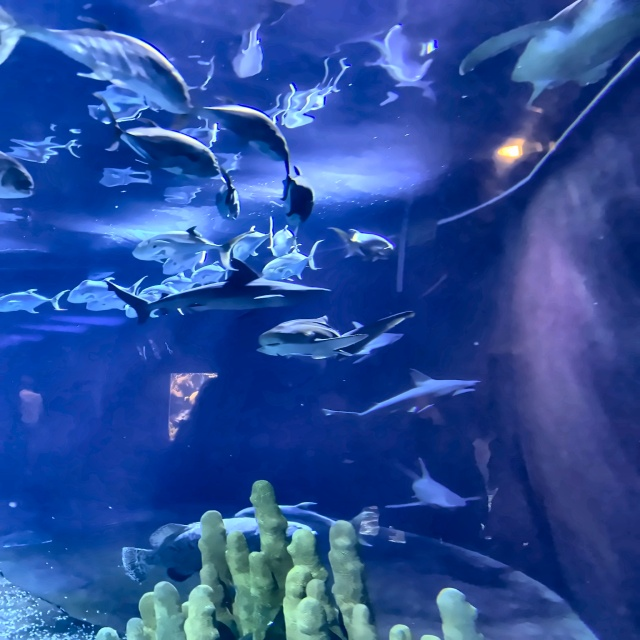fish: (0, 3, 193, 115), (121, 518, 318, 582), (98, 97, 219, 178), (233, 500, 371, 548), (208, 104, 290, 168), (139, 228, 251, 259), (262, 240, 323, 282), (86, 276, 146, 313), (332, 228, 392, 260), (280, 168, 311, 229), (231, 225, 275, 263), (0, 151, 33, 199), (0, 290, 66, 314), (215, 164, 239, 220), (65, 281, 117, 305), (269, 226, 301, 257), (160, 256, 205, 275), (192, 263, 231, 283), (160, 273, 202, 291), (140, 286, 178, 303), (123, 301, 157, 318)
shark: (107, 258, 329, 326), (323, 369, 479, 421), (259, 309, 414, 360), (388, 457, 480, 510)
